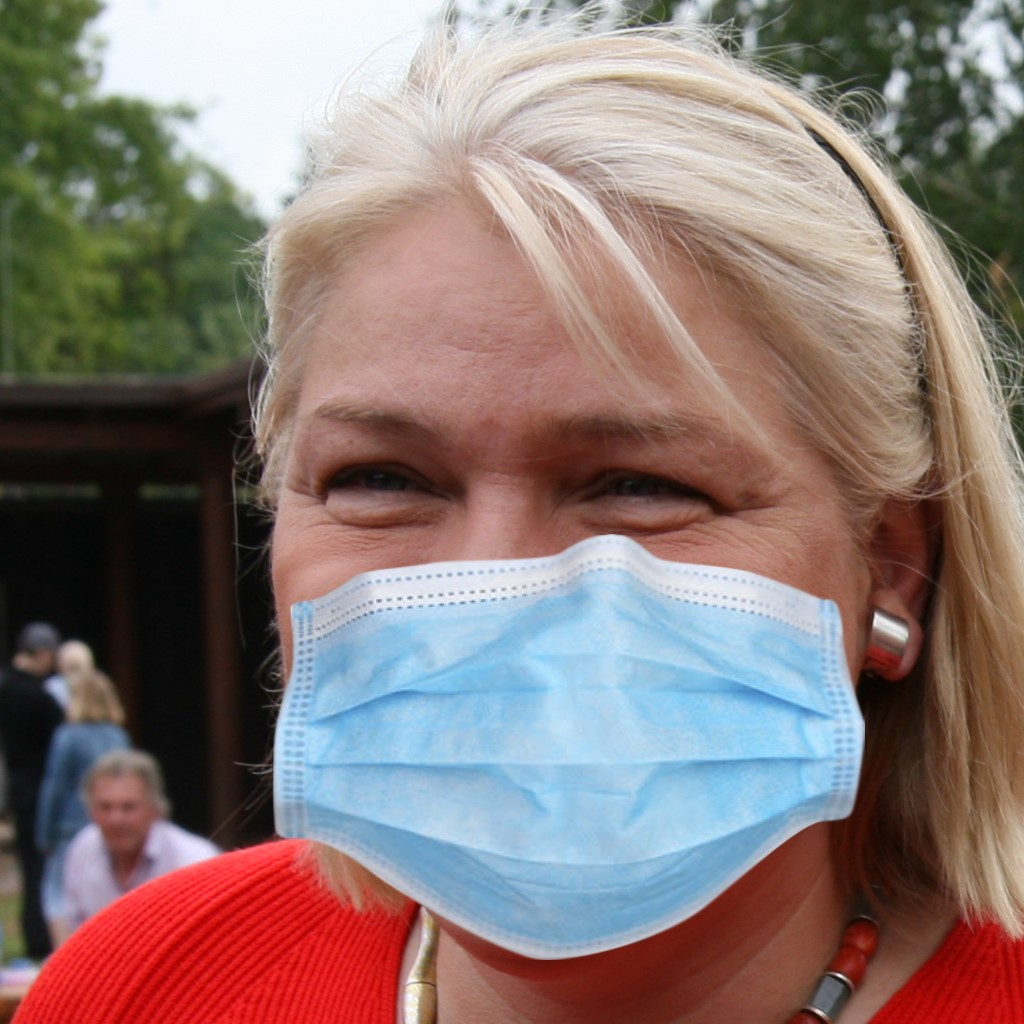con_mascara: (262, 195, 863, 934)
